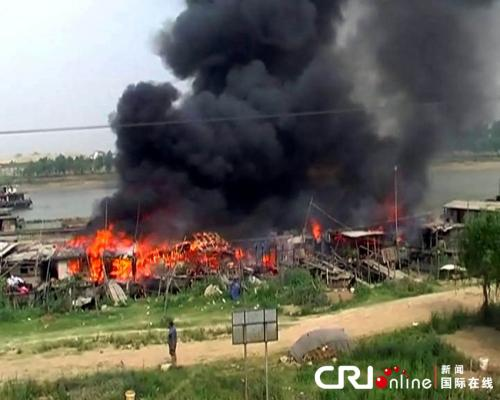fire: (49, 225, 287, 281)
smoke: (113, 13, 483, 204)
